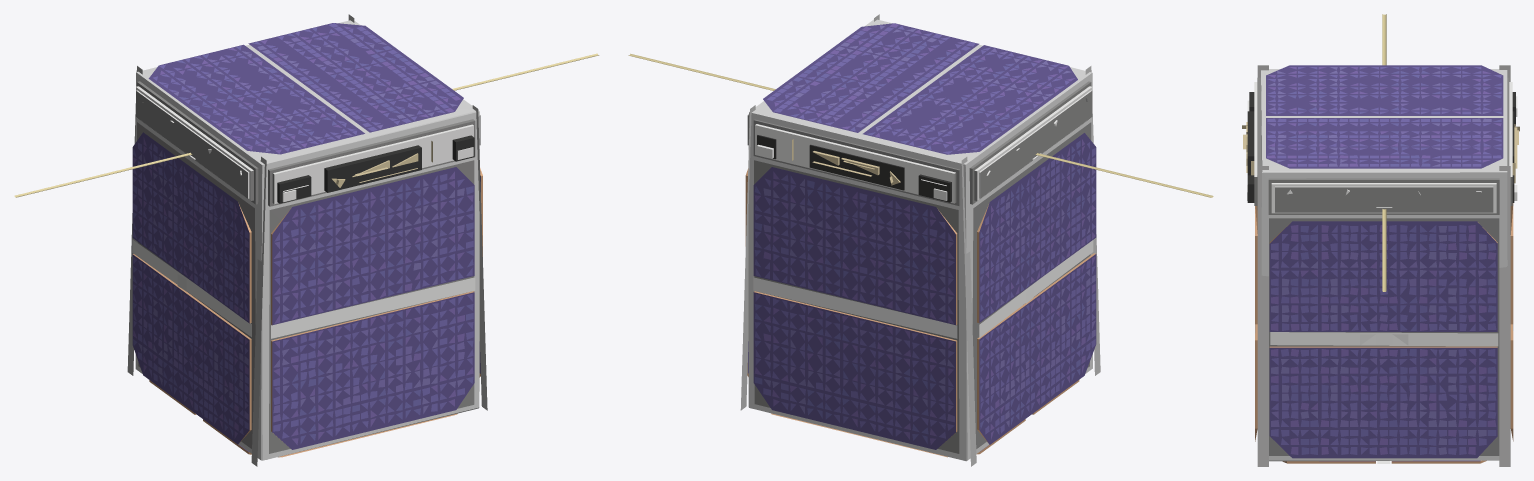
The model's file is cubesat-1u-preview.glb.
The picture shows the model from 3 angles, left to right: view 1: azimuth 30°, elevation 25°; view 2: azimuth 150°, elevation 25°; view 3: azimuth 270°, elevation 25°; orthographic projection. The views are drawn at different scales.
Parts seen in each view (by area): view 1: Layer_0; view 2: Layer_0; view 3: Layer_0.
Boxes of the visible parts, x1,y1,x2,y2 form: Layer_0: [14, 14, 599, 466]; Layer_0: [628, 14, 1213, 466]; Layer_0: [1242, 14, 1519, 466].
Size of the model in its own units: 5.19 by 2.59 by 2.2.
